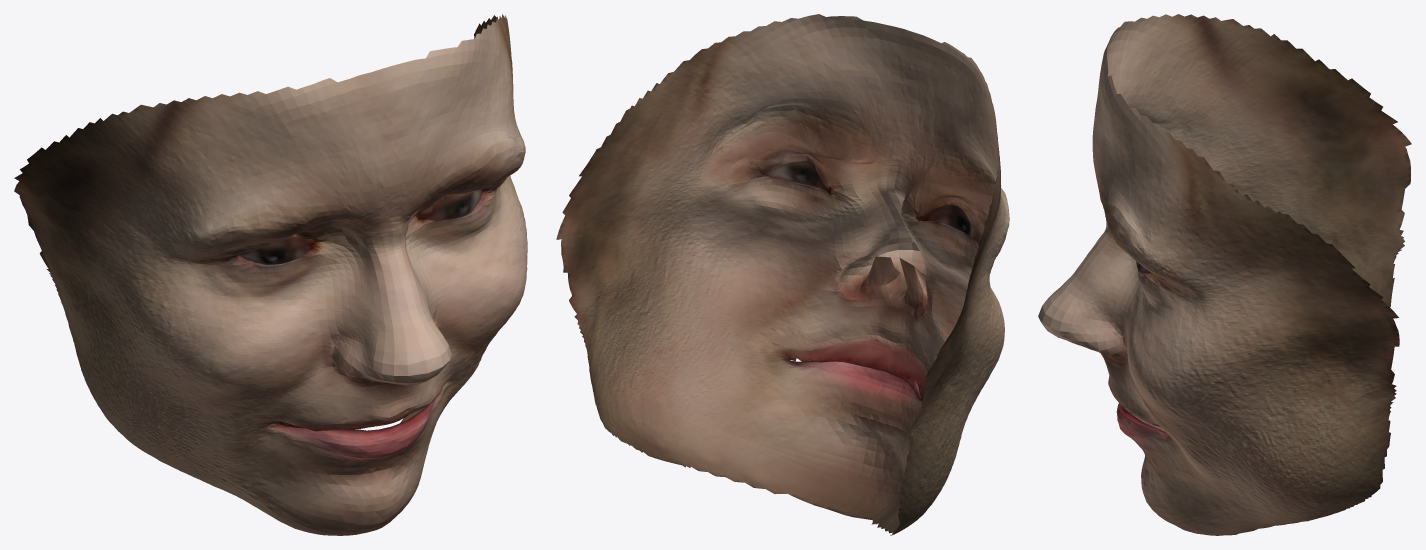
File: 3DDFAV3.obj
The picture shows the model from 3 angles, left to right: view 1: azimuth 30°, elevation 25°; view 2: azimuth 150°, elevation 25°; view 3: azimuth 270°, elevation 25°; orthographic projection. The views are drawn at different scales.
Size of the model in its own units: 1.3 by 1.43 by 1.04.
